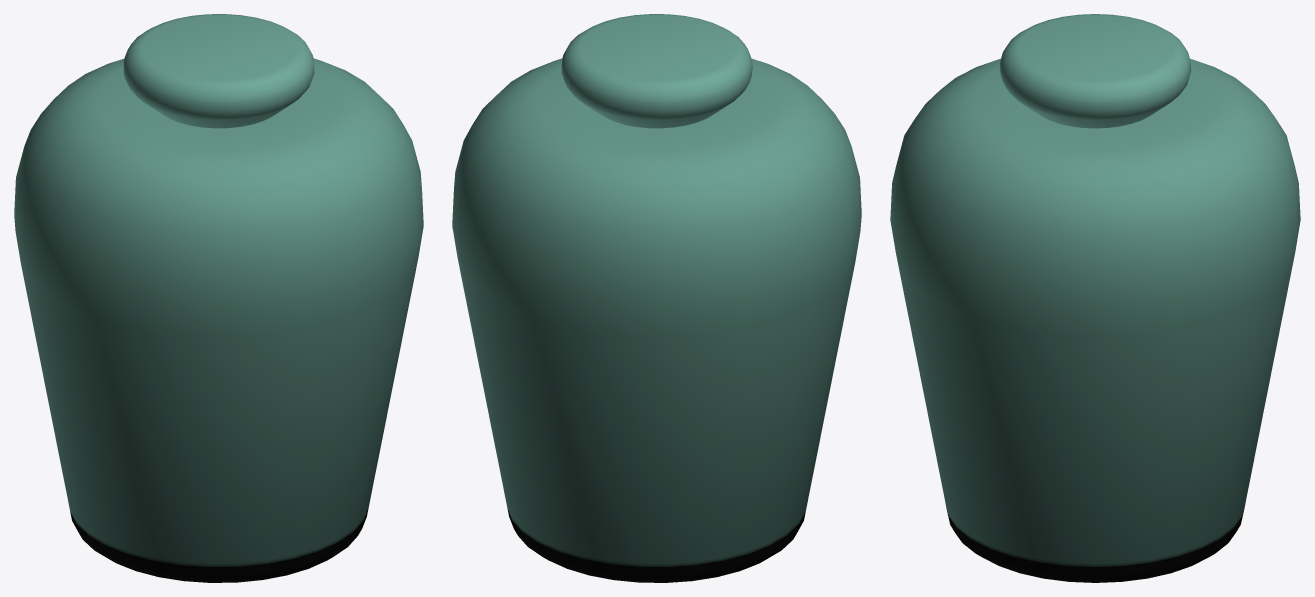
Rendered from Pot5.fbx.
The picture shows the model from 3 angles, left to right: view 1: azimuth 30°, elevation 25°; view 2: azimuth 150°, elevation 25°; view 3: azimuth 270°, elevation 25°; orthographic projection.
Parts seen in each view (by area): view 1: Pot5; view 2: Pot5; view 3: Pot5.
Boxes of the visible parts, x1,y1,x2,y2 form: Pot5: [14, 14, 423, 582]; Pot5: [452, 14, 861, 582]; Pot5: [890, 14, 1300, 582].
Size of the model in its own units: 28.98 by 37.35 by 28.98.
